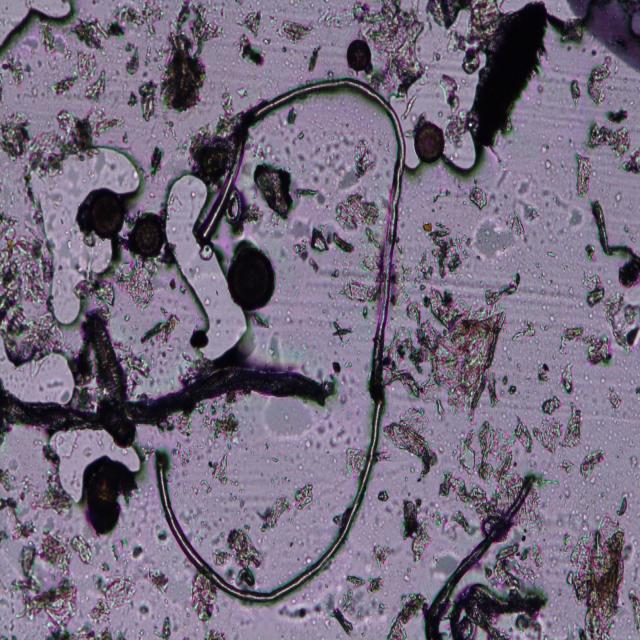Air bubble: (33, 126, 145, 322), (162, 165, 246, 372), (0, 1, 78, 66)
Background material: (398, 290, 508, 417), (465, 1, 552, 154), (562, 517, 640, 638), (0, 210, 62, 348), (440, 420, 521, 519), (354, 3, 430, 97), (157, 1, 215, 115), (0, 110, 96, 169), (428, 0, 498, 70), (84, 458, 140, 536), (415, 218, 473, 284), (212, 524, 264, 590), (292, 133, 341, 202), (384, 420, 440, 480), (470, 205, 520, 268), (590, 119, 640, 178), (163, 414, 201, 487), (478, 421, 522, 482), (529, 400, 583, 449), (31, 578, 75, 638), (34, 441, 70, 512), (440, 70, 474, 145), (113, 258, 161, 311), (262, 482, 314, 530), (255, 162, 295, 221), (193, 394, 237, 446), (90, 576, 137, 624), (193, 122, 231, 180), (331, 566, 361, 638), (397, 496, 433, 556), (604, 296, 640, 353), (544, 182, 583, 232), (383, 592, 427, 636), (331, 194, 381, 232), (73, 14, 125, 50), (136, 312, 178, 354), (189, 574, 218, 626), (38, 527, 73, 570), (0, 53, 38, 92), (77, 276, 116, 313), (0, 495, 34, 537), (75, 55, 107, 99), (0, 457, 36, 496), (119, 4, 163, 35), (276, 218, 310, 258), (94, 103, 127, 144), (280, 601, 325, 631), (37, 32, 70, 72), (579, 262, 607, 309), (346, 134, 374, 180), (340, 279, 380, 311), (13, 544, 39, 592), (0, 588, 24, 640), (172, 509, 208, 543), (312, 421, 350, 453), (587, 59, 611, 108), (567, 152, 593, 197), (481, 274, 520, 304), (234, 35, 266, 71), (202, 448, 230, 488), (512, 412, 538, 455), (358, 226, 381, 274), (279, 16, 312, 49), (320, 2, 352, 36), (578, 447, 608, 483), (126, 351, 151, 394), (144, 143, 171, 182), (247, 124, 275, 161), (138, 73, 158, 124), (430, 546, 464, 576), (518, 182, 540, 225), (236, 4, 266, 35), (322, 229, 354, 258), (215, 84, 247, 112), (77, 624, 130, 640), (460, 426, 480, 468), (554, 508, 573, 552), (70, 533, 94, 567), (341, 444, 365, 476), (588, 335, 614, 364), (142, 565, 168, 594), (508, 319, 537, 345), (608, 488, 633, 518), (557, 358, 577, 394), (230, 482, 252, 514), (124, 38, 142, 76), (496, 156, 514, 192), (309, 227, 331, 256), (565, 75, 584, 108), (466, 186, 490, 212), (327, 316, 351, 342), (506, 211, 526, 242), (531, 255, 549, 289), (602, 385, 624, 412), (561, 321, 584, 346), (499, 376, 521, 402), (366, 572, 386, 599), (264, 336, 284, 362), (162, 278, 188, 298), (324, 360, 350, 380), (51, 75, 77, 95), (579, 236, 599, 261), (371, 540, 391, 565), (604, 106, 630, 125), (556, 452, 574, 479), (307, 47, 325, 71), (535, 362, 551, 387), (539, 145, 555, 170), (540, 397, 562, 415), (432, 185, 450, 207), (168, 123, 184, 147), (111, 538, 127, 562), (537, 312, 557, 331), (196, 240, 214, 260), (28, 34, 44, 55), (94, 556, 113, 573), (160, 614, 172, 640), (305, 257, 321, 276), (627, 450, 640, 473), (292, 126, 308, 144), (378, 489, 393, 507), (204, 629, 228, 640), (580, 511, 592, 532), (136, 602, 150, 620), (286, 107, 298, 128), (256, 311, 269, 330), (213, 24, 225, 42), (134, 625, 148, 640), (128, 91, 138, 112), (155, 527, 169, 542), (134, 545, 144, 566), (543, 245, 557, 258), (359, 301, 368, 321), (330, 268, 345, 279), (566, 285, 577, 300), (268, 454, 282, 465), (403, 569, 413, 584), (547, 476, 558, 489), (218, 1, 226, 18), (633, 384, 640, 399), (537, 80, 545, 93), (88, 0, 102, 7), (202, 296, 214, 304), (563, 488, 573, 497), (304, 438, 310, 451), (615, 190, 621, 202), (586, 374, 592, 384), (177, 635, 189, 640), (600, 374, 604, 384)
Cellulose filter fibre: (0, 356, 335, 434), (417, 474, 547, 639), (592, 204, 640, 292)
Diatom: (88, 317, 128, 406), (226, 244, 276, 314), (128, 207, 165, 262), (91, 189, 127, 242), (411, 122, 446, 166), (346, 35, 372, 72), (223, 189, 245, 226), (114, 422, 138, 452)
Microfibre: (156, 80, 408, 604)
Pen: (564, 0, 640, 71)
